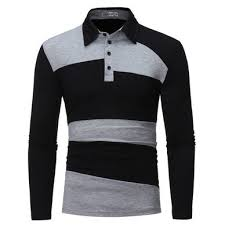S_polo shirt: (19, 14, 213, 222)
